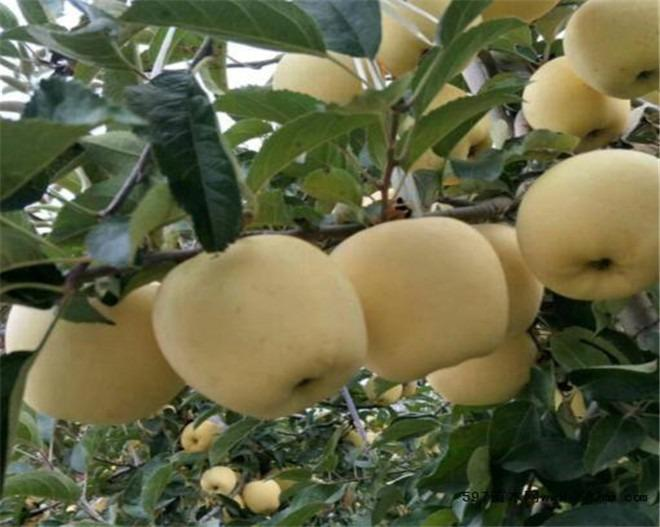apple: (516, 151, 660, 306), (243, 479, 282, 515)
